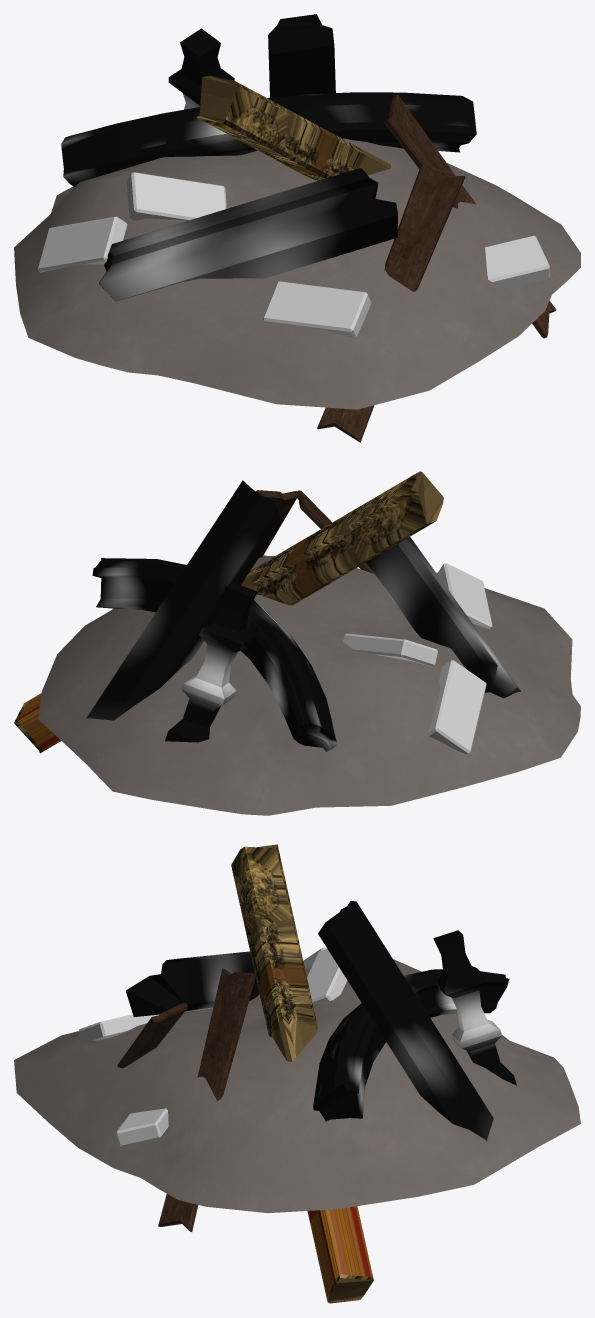
Rendered from Rubble_B.fbx.
3 renders of one model, top to bottom at view 1: azimuth 30°, elevation 25°; view 2: azimuth 150°, elevation 25°; view 3: azimuth 270°, elevation 25°, orthographic. The views are drawn at different scales.
Visible parts, largest first — view 1: Rubble_B; view 2: Rubble_B; view 3: Rubble_B.
Boxes of the visible parts, x1=… form: Rubble_B: x1=14, y1=14, x2=580, y2=442; Rubble_B: x1=14, y1=471, x2=580, y2=815; Rubble_B: x1=14, y1=844, x2=580, y2=1303.
Size of the model in its own units: 4.63 by 2.71 by 4.58.
